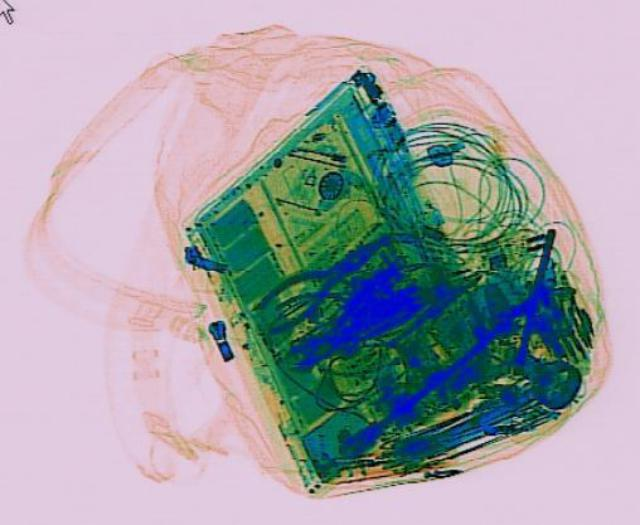Pliers: (240, 220, 402, 335)
